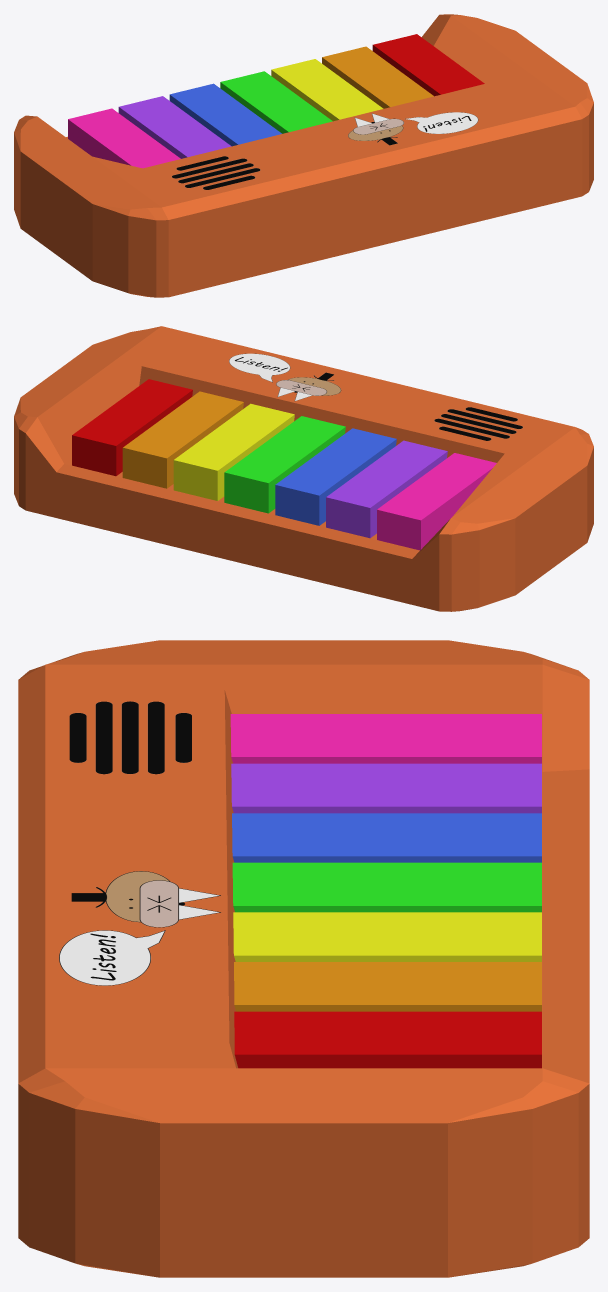
Rendered from toy_piano.glb.
3 views of the same model, one above another, from view 1: azimuth 30°, elevation 25°; view 2: azimuth 150°, elevation 25°; view 3: azimuth 270°, elevation 25° (orthographic). The views are drawn at different scales.
Parts seen in each view (by area): view 1: Cube, Cube.007, Cube.006, Cube.005, Cube.004, Cube.003, Cube.002, Cube.001, walrus_guy, speaker_for_keyboard; view 2: Cube, Cube.007, Cube.004, Cube.003, Cube.006, Cube.002, Cube.005, Cube.001, walrus_guy, speaker_for_keyboard; view 3: Cube, Cube.001, Cube.006, Cube.004, Cube.007, Cube.005, Cube.003, Cube.002, walrus_guy, speaker_for_keyboard.
Boxes of the visible parts, x1,y1,x2,y2 form: Cube: [14, 14, 593, 297]; Cube.007: [68, 108, 180, 168]; Cube.006: [118, 96, 231, 158]; Cube.005: [169, 83, 281, 146]; Cube.004: [220, 71, 332, 133]; Cube.003: [271, 59, 383, 121]; Cube.002: [322, 46, 433, 108]; Cube.001: [372, 34, 484, 96]; walrus_guy: [348, 112, 478, 145]; speaker_for_keyboard: [171, 156, 260, 189]; Cube: [14, 326, 593, 611]; Cube.007: [377, 453, 496, 550]; Cube.004: [224, 416, 345, 513]; Cube.003: [173, 403, 294, 500]; Cube.006: [326, 440, 447, 538]; Cube.002: [122, 391, 243, 488]; Cube.005: [275, 428, 396, 525]; Cube.001: [72, 379, 192, 476]; walrus_guy: [229, 353, 341, 401]; speaker_for_keyboard: [434, 407, 522, 440]; Cube: [18, 640, 589, 1277]; Cube.001: [234, 1011, 541, 1068]; Cube.006: [231, 763, 541, 813]; Cube.004: [232, 862, 541, 912]; Cube.007: [230, 714, 541, 763]; Cube.005: [232, 813, 541, 862]; Cube.003: [233, 912, 541, 961]; Cube.002: [234, 962, 541, 1011]; walrus_guy: [59, 871, 220, 985]; speaker_for_keyboard: [69, 701, 191, 774].
Size of the model in its own units: 5.6 by 1 by 2.8.
Materials: 10 (2 with a texture image).
